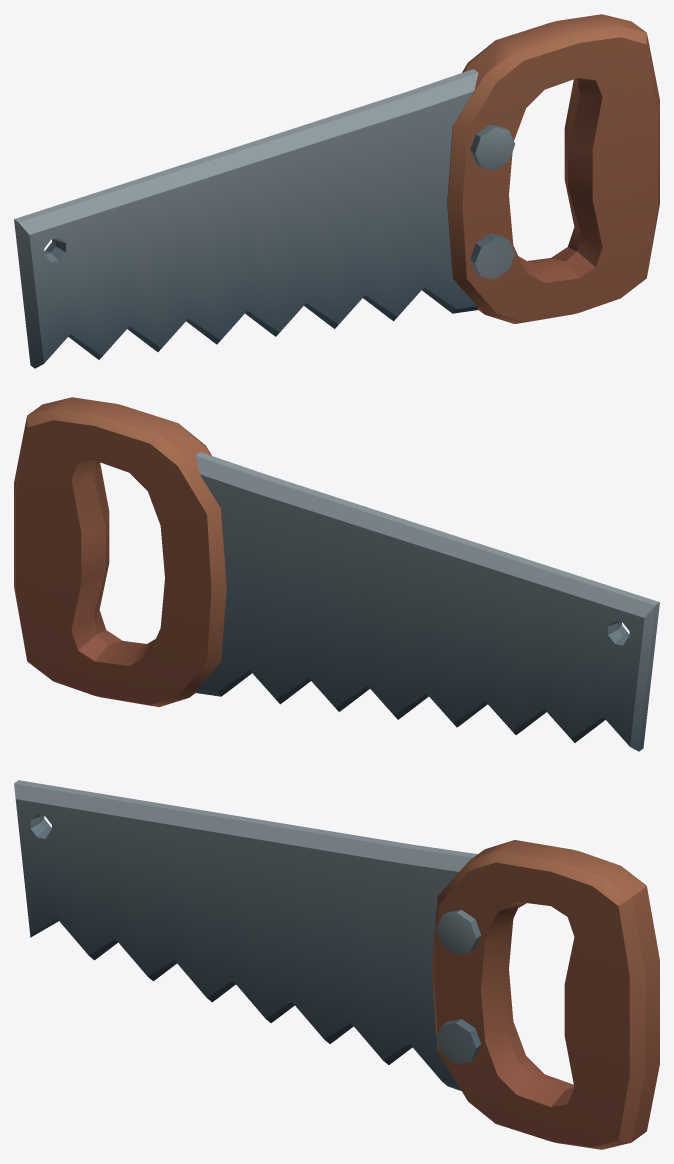
File: KT_saw.glb
3 views of the same model, one above another, from view 1: azimuth 30°, elevation 25°; view 2: azimuth 150°, elevation 25°; view 3: azimuth 330°, elevation 25° (orthographic).
Visible parts, largest first — view 1: saw; view 2: saw; view 3: saw.
Part boxes in pixels (x1,y1,x2,y2): saw: (14,14,659,368); saw: (14,397,659,751); saw: (14,780,659,1149).
Bounding box in the file's own units: 1.35 × 0.5711 × 0.1291.
